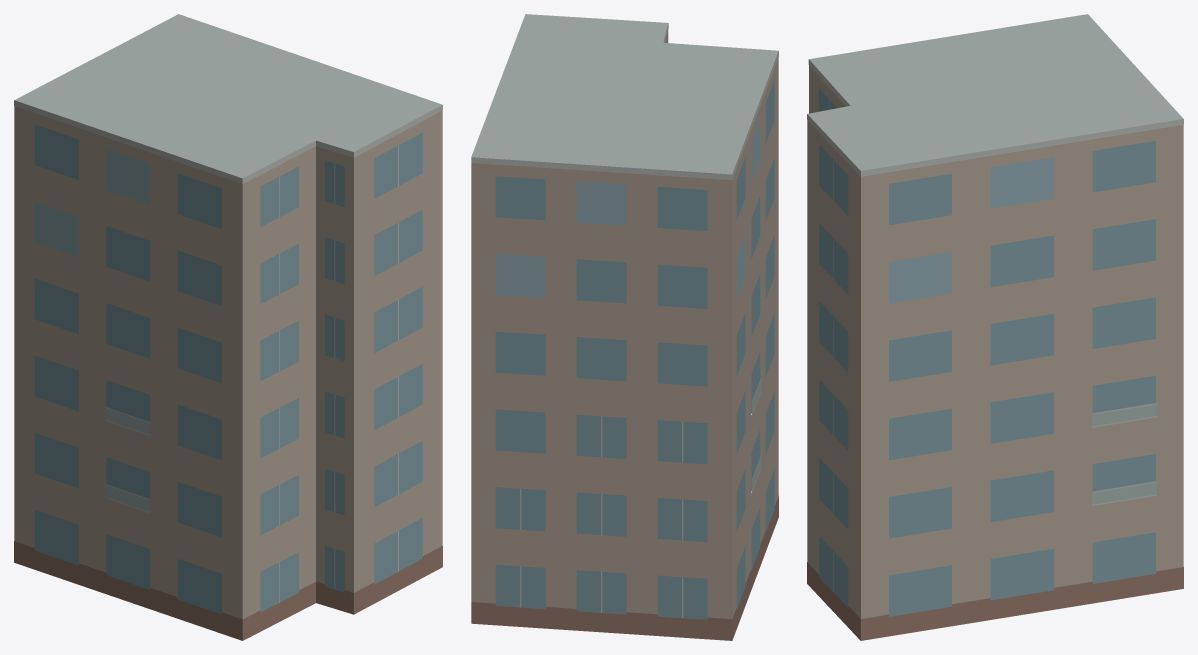
The model's file is survey-upis-32888767.glb.
3 views of the same model, side by side, from view 1: azimuth 30°, elevation 25°; view 2: azimuth 150°, elevation 25°; view 3: azimuth 270°, elevation 25° (orthographic).
Parts seen in each view (by area): view 1: survey-upis-32888767.tmp; view 2: survey-upis-32888767.tmp; view 3: survey-upis-32888767.tmp.
Part boxes in pixels (<box>): survey-upis-32888767.tmp: <box>14,14,442,640</box>; survey-upis-32888767.tmp: <box>471,14,778,640</box>; survey-upis-32888767.tmp: <box>807,14,1183,640</box>.
Bounding box in the file's own units: 14.2 × 19.8 × 14.39.
